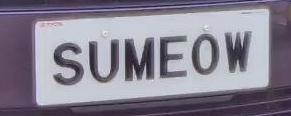0: (188, 27, 223, 80)
E: (154, 30, 191, 84)
M: (120, 33, 159, 89)
S: (47, 36, 89, 92)
U: (85, 36, 124, 89)
W: (221, 25, 255, 82)
